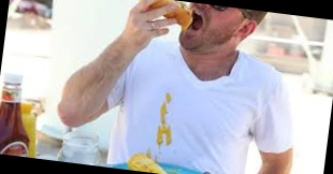mustard: (150, 92, 172, 149), (155, 120, 175, 147)
